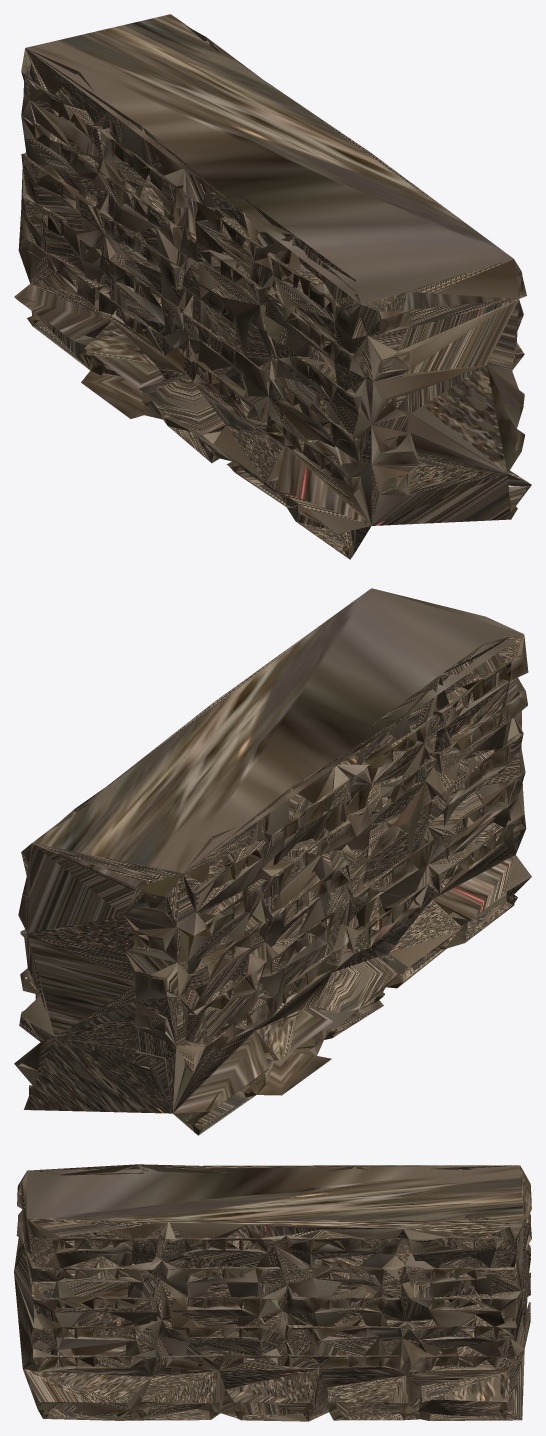
Rendered from l03_far.glb.
3 renders of one model, top to bottom at view 1: azimuth 30°, elevation 25°; view 2: azimuth 150°, elevation 25°; view 3: azimuth 270°, elevation 25°, orthographic. The views are drawn at different scales.
Visible parts, largest first — view 1: l03_far; view 2: l03_far; view 3: l03_far.
Boxes of the visible parts, <box> form: l03_far: <box>14,14,531,559</box>; l03_far: <box>14,588,531,1135</box>; l03_far: <box>14,1164,531,1421</box>.
Size of the model in its own units: 30.05 by 40 by 92.77.
Materials: 1 (1 with a texture image).
